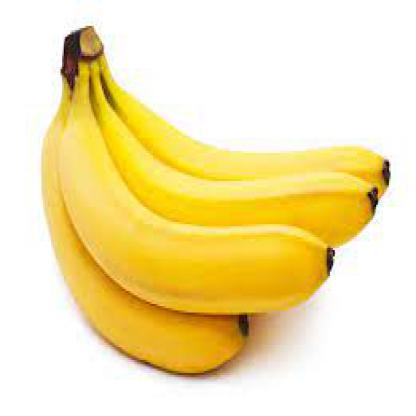Fresh: (23, 15, 398, 379)
